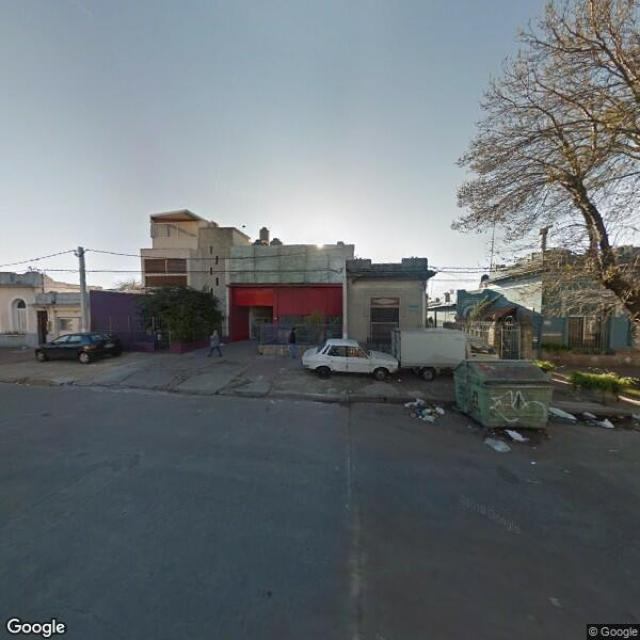garbage container: (440, 348, 570, 443)
